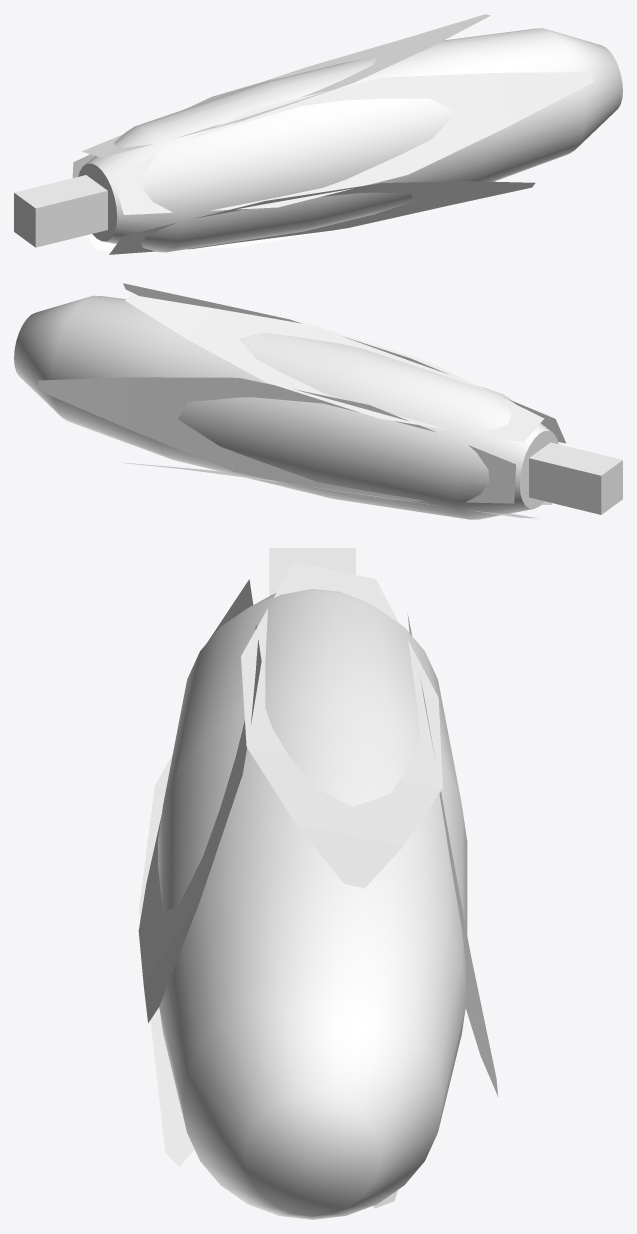
File: corn.glb
3 renders of one model, top to bottom at view 1: azimuth 30°, elevation 25°; view 2: azimuth 150°, elevation 25°; view 3: azimuth 270°, elevation 25°, orthographic. The views are drawn at different scales.
Parts seen in each view (by area): view 1: Corn; view 2: Corn; view 3: Corn.
Part boxes in pixels (x1,y1,x2,y2): Corn: (14,14,622,254); Corn: (14,283,622,519); Corn: (138,548,498,1219).
Bounding box in the file's own units: 0.219 × 0.0579 × 0.0581.
1 material, 1 textured.
